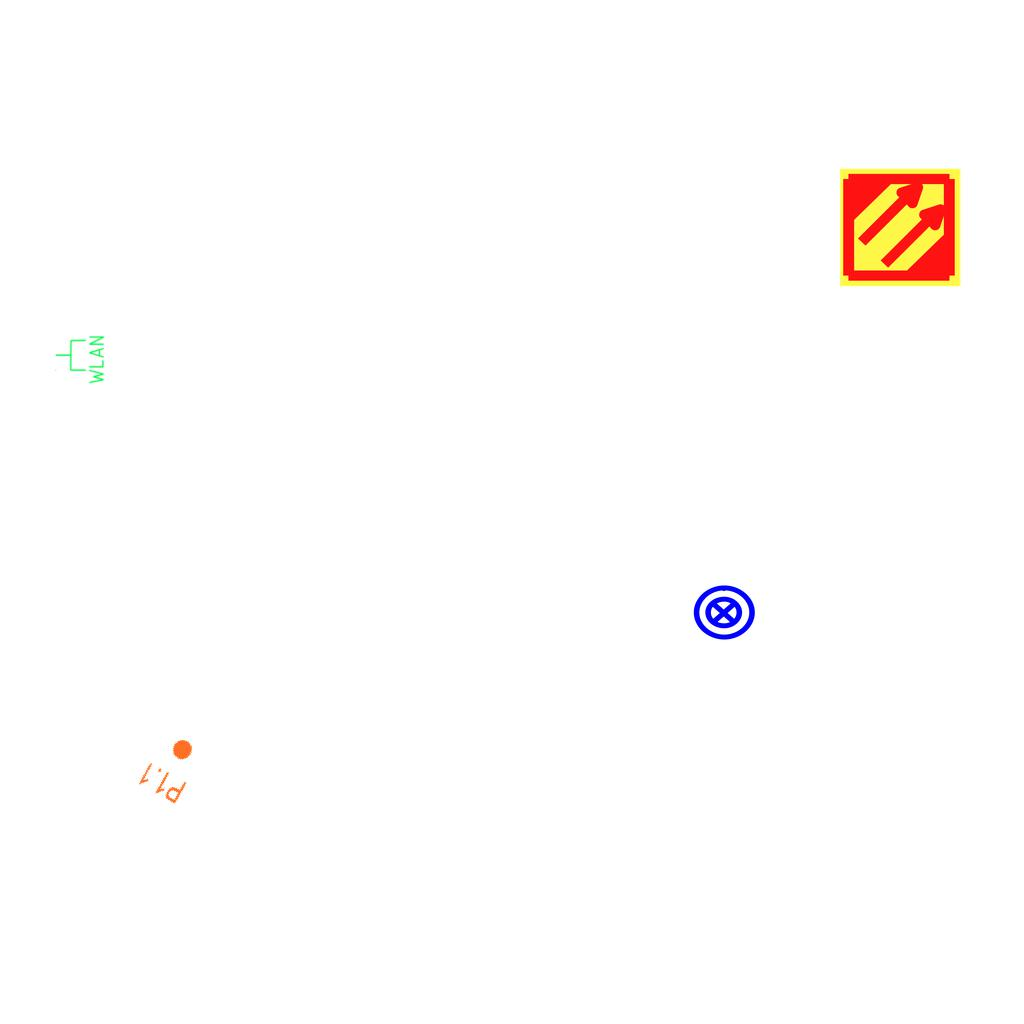ASR_Ansaugrauchmelder: (838, 165, 963, 290)
Downlight_LED_Einbauleuchten_Flur: (135, 727, 207, 807)
Taster_beleuchtet: (691, 580, 757, 646)
WLAN: (54, 334, 106, 386)
